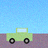vehicle: (7, 28, 32, 44)
